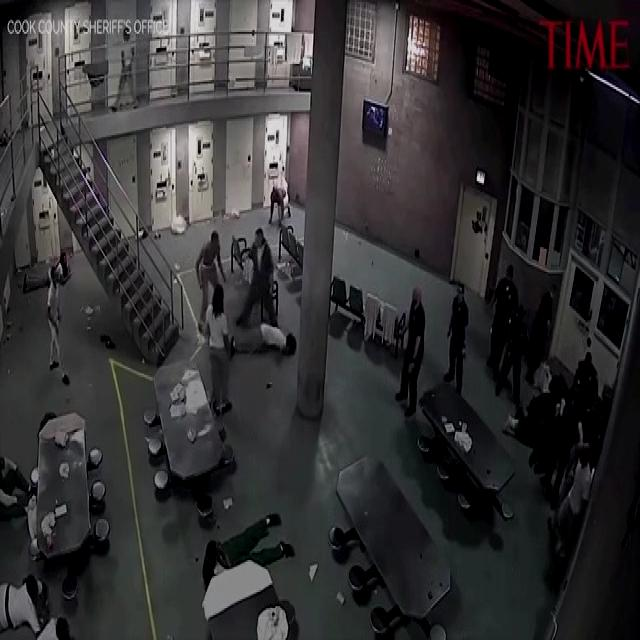fight: (191, 226, 298, 366)
